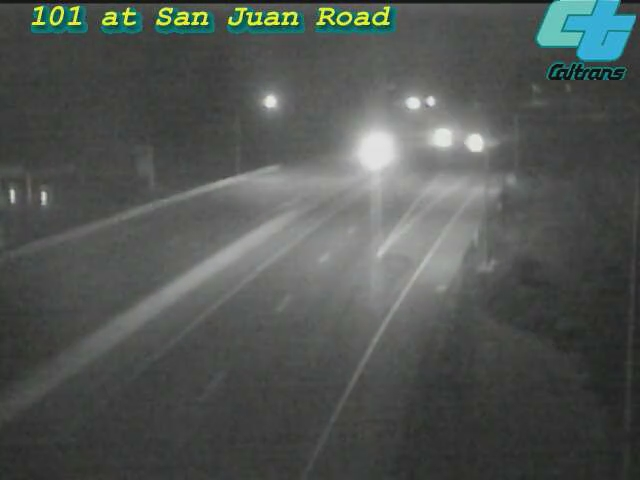vehicle: (352, 126, 402, 176), (413, 110, 463, 160), (448, 118, 498, 168)
